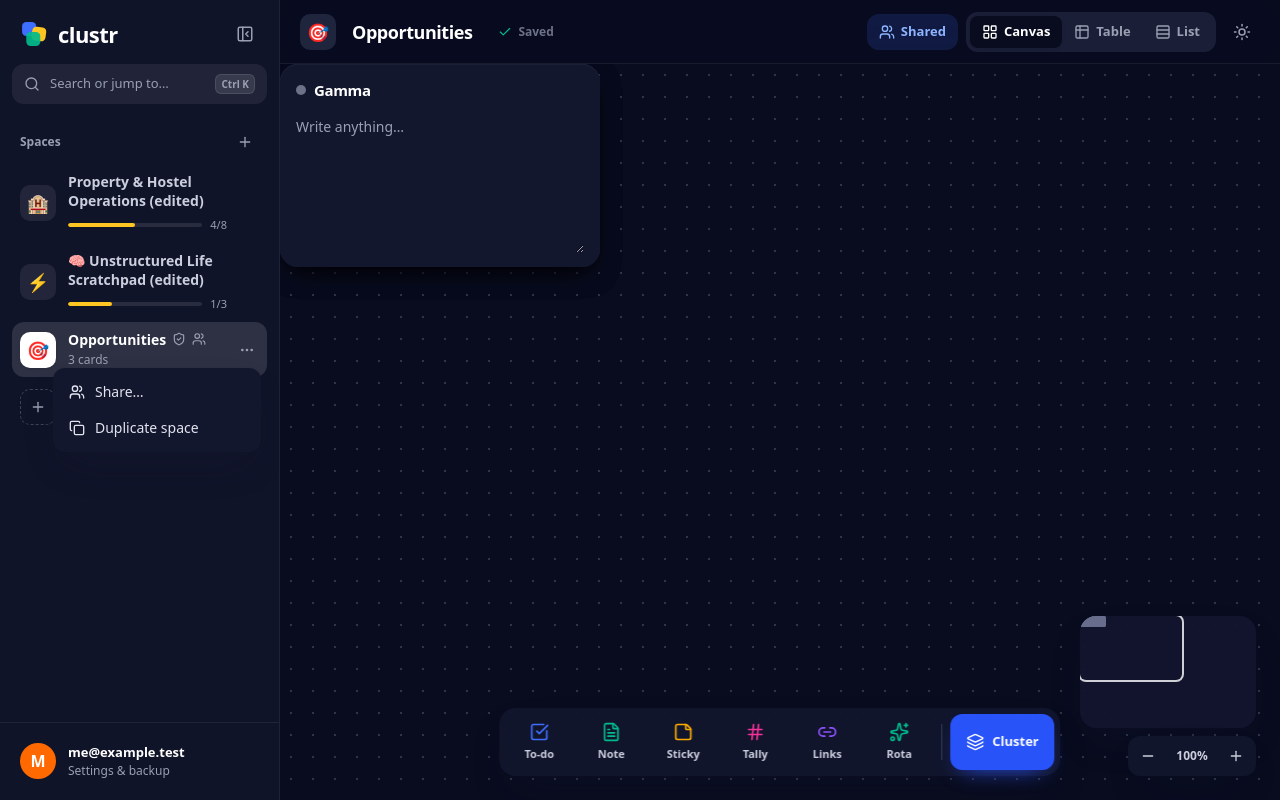
Test: protected spaces and owner deletes › offers the owner no way to delete or stop sharing a protected space
The image size is (1280, 800).
Earlier steps of the test are not shown.
Later steps or results of the test are not shown.
Expected: the text "Duplicate space" is shown, [95, 418, 199, 437]
Click the menu item "Share…" at (157, 392), box [59, 374, 255, 410]
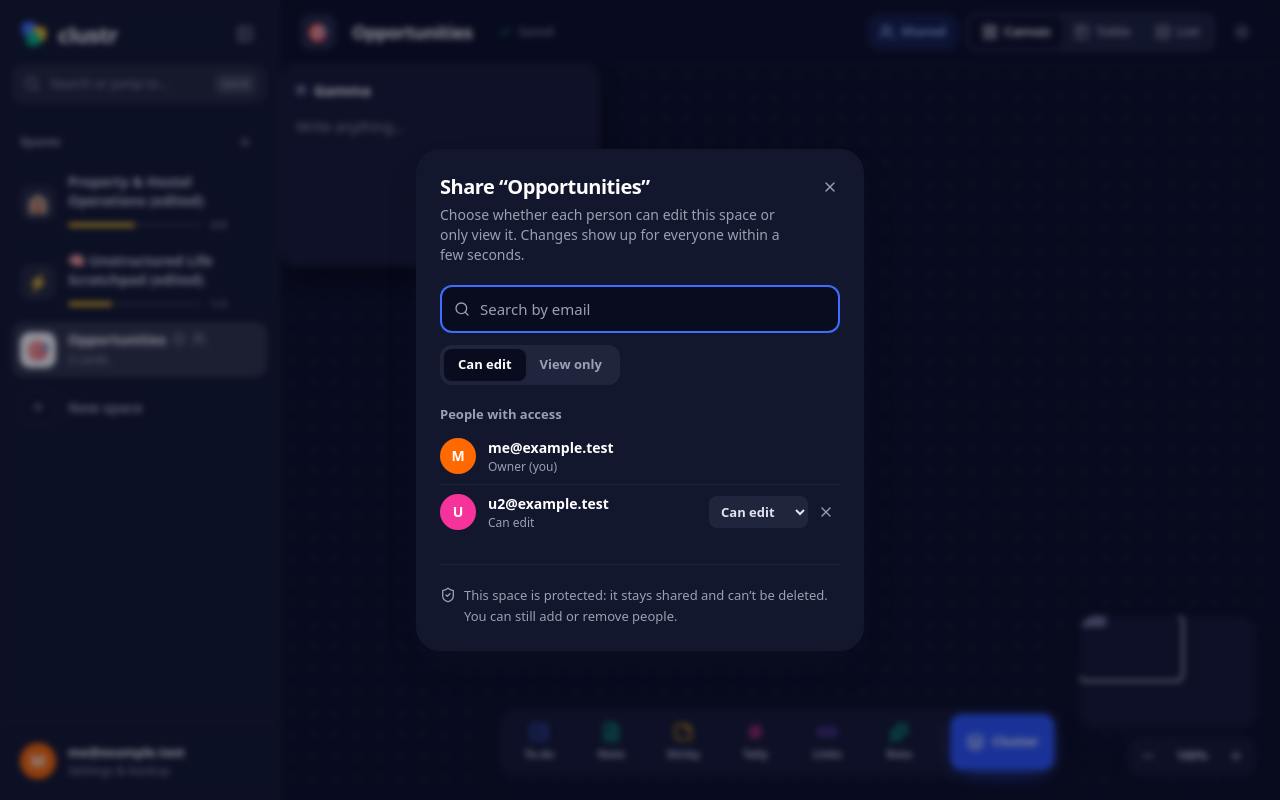
Expected: the text "This space is protected: it stays shared" is shown, [464, 586, 828, 625]
